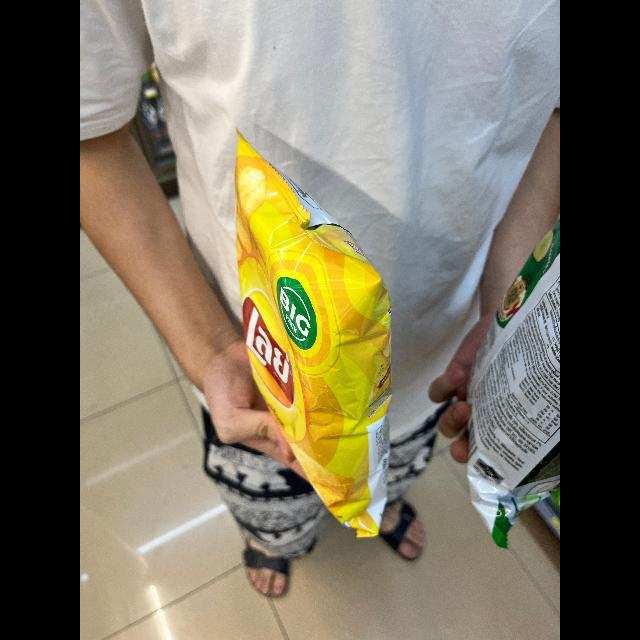snack_bag: (217, 112, 405, 542), (444, 208, 560, 550)
